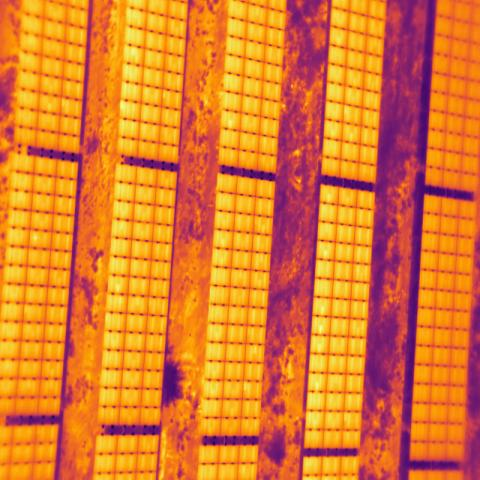fault: (118, 99, 142, 122)
